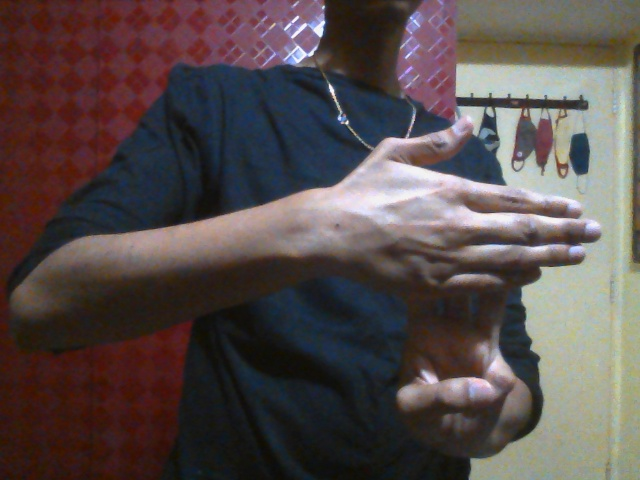M: (340, 121, 604, 452)
